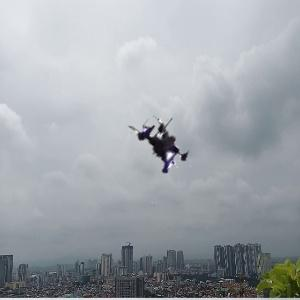drone: (109, 110, 204, 205)
